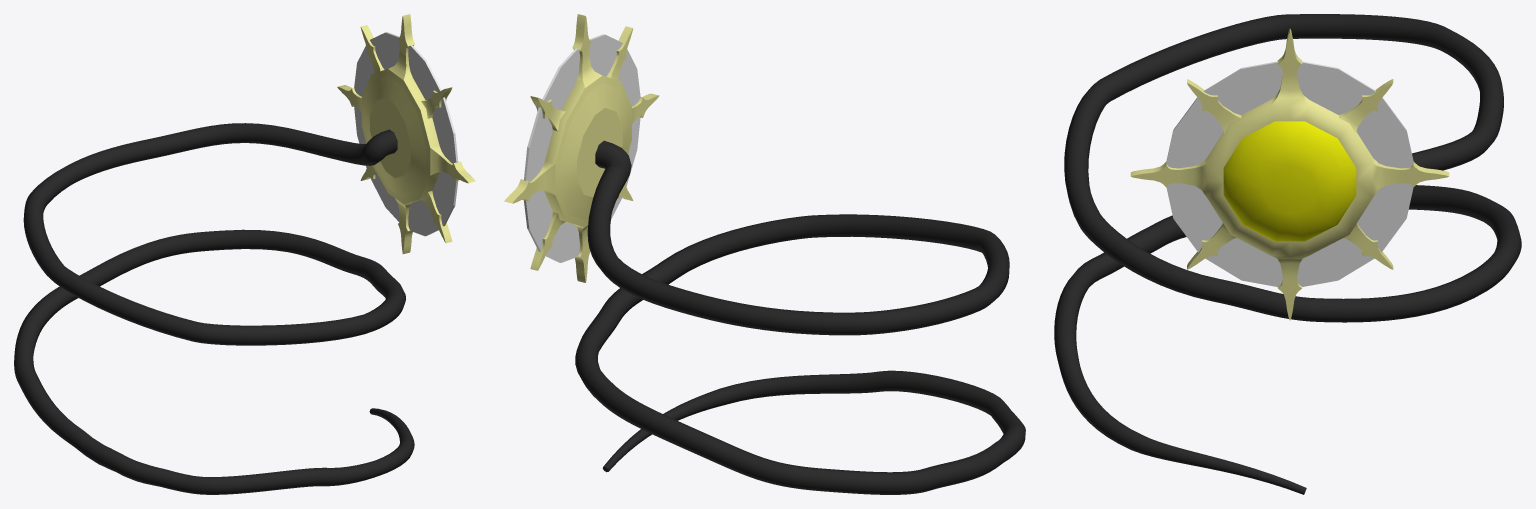
The model's file is lightflower.fbx.
3 renders of one model, left to right at view 1: azimuth 30°, elevation 25°; view 2: azimuth 150°, elevation 25°; view 3: azimuth 270°, elevation 25°, orthographic. The views are drawn at different scales.
Visible parts, largest first — view 1: Vine, Webbing; view 2: Vine, Webbing; view 3: Webbing, Vine.
Boxes of the visible parts, x1=… form: Vine: x1=14, y1=123, x2=414, y2=494; Webbing: x1=337, y1=14, x2=475, y2=253; Vine: x1=575, y1=140, x2=1025, y2=494; Webbing: x1=504, y1=14, x2=659, y2=282; Webbing: x1=1130, y1=28, x2=1449, y2=320; Vine: x1=1054, y1=14, x2=1521, y2=494.
Bounding box in the file's own units: 395 × 386 × 340.
